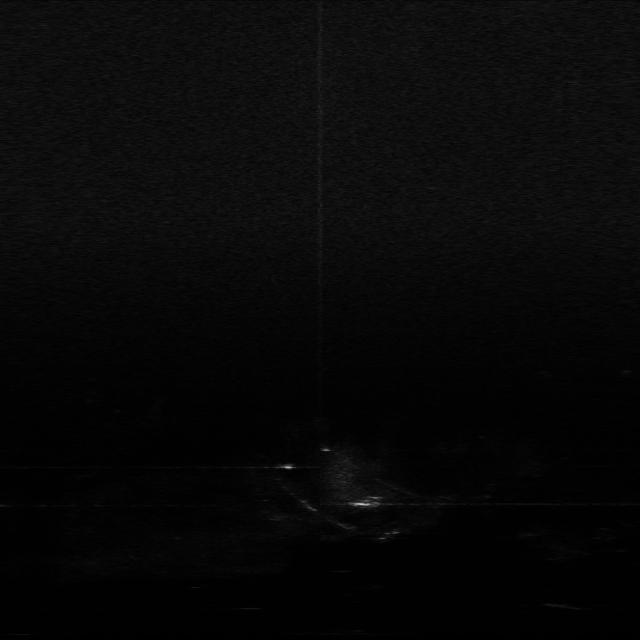rov: (350, 494, 386, 511)
